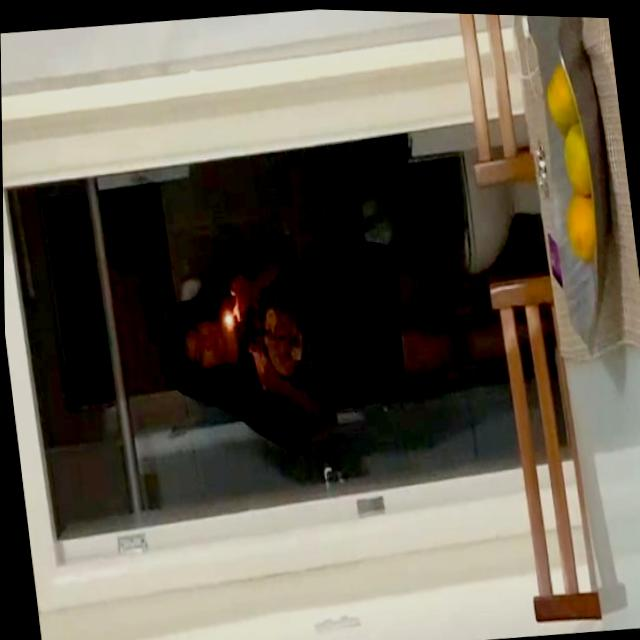no_helmet: (217, 305, 235, 331)
